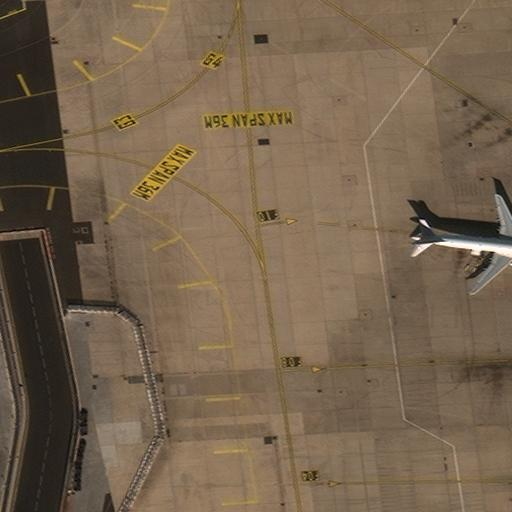Medium Civil Transport: (411, 195, 511, 293)
